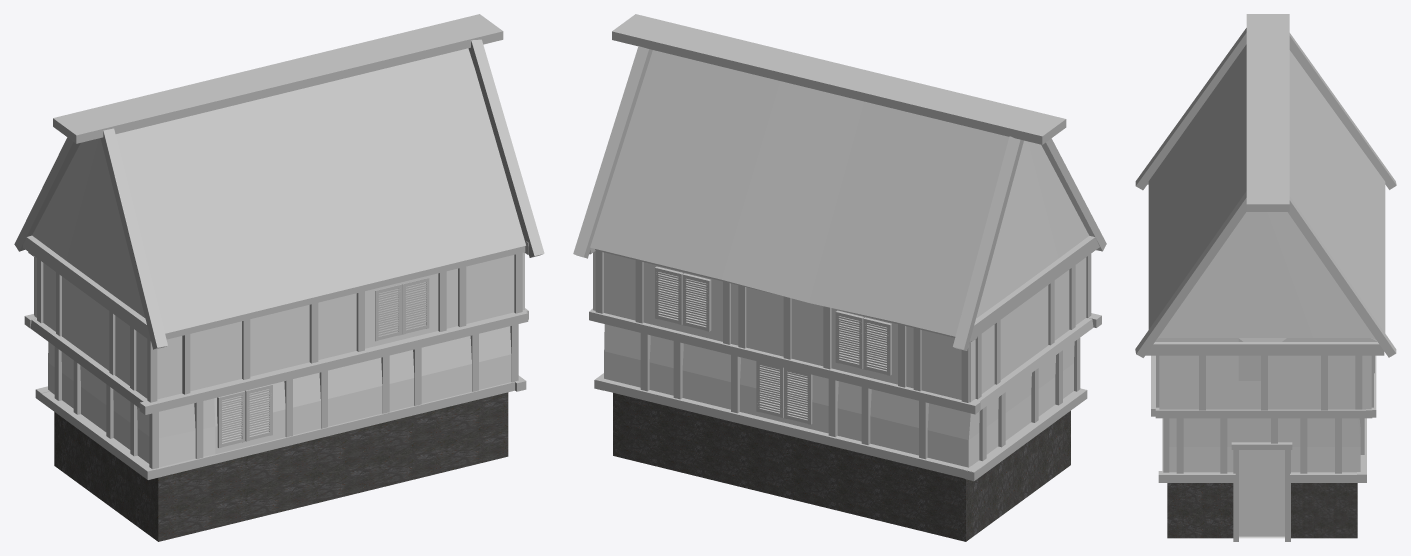
The model's file is house_trial_1.fbx.
The picture shows the model from 3 angles, left to right: view 1: azimuth 30°, elevation 25°; view 2: azimuth 150°, elevation 25°; view 3: azimuth 270°, elevation 25°; orthographic projection. The views are drawn at different scales.
Visible parts, largest first — view 1: Cube, Cube.014, Cube.005, Cube.011, Cube.073, Cube.074, Cube.008, Cube.004, Cube.016, Cube.003, Cube.072, Cube.023 (+4 smaller); view 2: Cube, Cube.014, Cube.010, Cube.006, Cube.072, Cube.071, Cube.004, Cube.016, Cube.003, Cube.080, Cube.079, Cube.015 (+4 smaller); view 3: Cube, Cube.014, Cube.009, Cube.074, Cube.001, Cube.071, Cube.073, Cube.072, Cube.069, Cube.068, Cube.012, Cube.013 (+10 smaller).
Part boxes in pixels (x1=…): Cube: x1=32, y1=48, x2=525, y2=541; Cube.014: x1=53, y1=14, x2=503, y2=143; Cube.005: x1=139, y1=310, x2=528, y2=414; Cube.011: x1=148, y1=382, x2=514, y2=479; Cube.073: x1=100, y1=128, x2=167, y2=349; Cube.074: x1=468, y1=39, x2=544, y2=257; Cube.008: x1=165, y1=246, x2=525, y2=339; Cube.004: x1=23, y1=235, x2=150, y2=340; Cube.016: x1=35, y1=389, x2=156, y2=479; Cube.003: x1=30, y1=318, x2=147, y2=407; Cube.072: x1=14, y1=137, x2=80, y2=251; Cube.023: x1=217, y1=391, x2=245, y2=448; Cube: x1=590, y1=50, x2=1089, y2=541; Cube.014: x1=612, y1=14, x2=1066, y2=144; Cube.010: x1=596, y1=376, x2=979, y2=478; Cube.006: x1=589, y1=309, x2=980, y2=414; Cube.072: x1=953, y1=136, x2=1023, y2=350; Cube.071: x1=573, y1=46, x2=652, y2=258; Cube.004: x1=970, y1=236, x2=1099, y2=341; Cube.016: x1=964, y1=388, x2=1087, y2=481; Cube.003: x1=974, y1=318, x2=1093, y2=409; Cube.080: x1=682, y1=273, x2=711, y2=331; Cube.079: x1=835, y1=310, x2=864, y2=368; Cube.015: x1=863, y1=317, x2=891, y2=375; Cube: x1=1148, y1=44, x2=1385, y2=538; Cube.014: x1=1246, y1=14, x2=1289, y2=211; Cube.009: x1=1145, y1=342, x2=1384, y2=355; Cube.074: x1=1135, y1=191, x2=1246, y2=357; Cube.001: x1=1155, y1=409, x2=1372, y2=418; Cube.071: x1=1288, y1=196, x2=1396, y2=357; Cube.073: x1=1135, y1=28, x2=1246, y2=190; Cube.072: x1=1289, y1=33, x2=1396, y2=189; Cube.069: x1=1158, y1=471, x2=1235, y2=482; Cube.068: x1=1290, y1=472, x2=1366, y2=482; Cube.012: x1=1285, y1=450, x2=1290, y2=541; Cube.013: x1=1233, y1=450, x2=1238, y2=541.
Size of the model in its own units: 2074 by 1784 by 1204.
